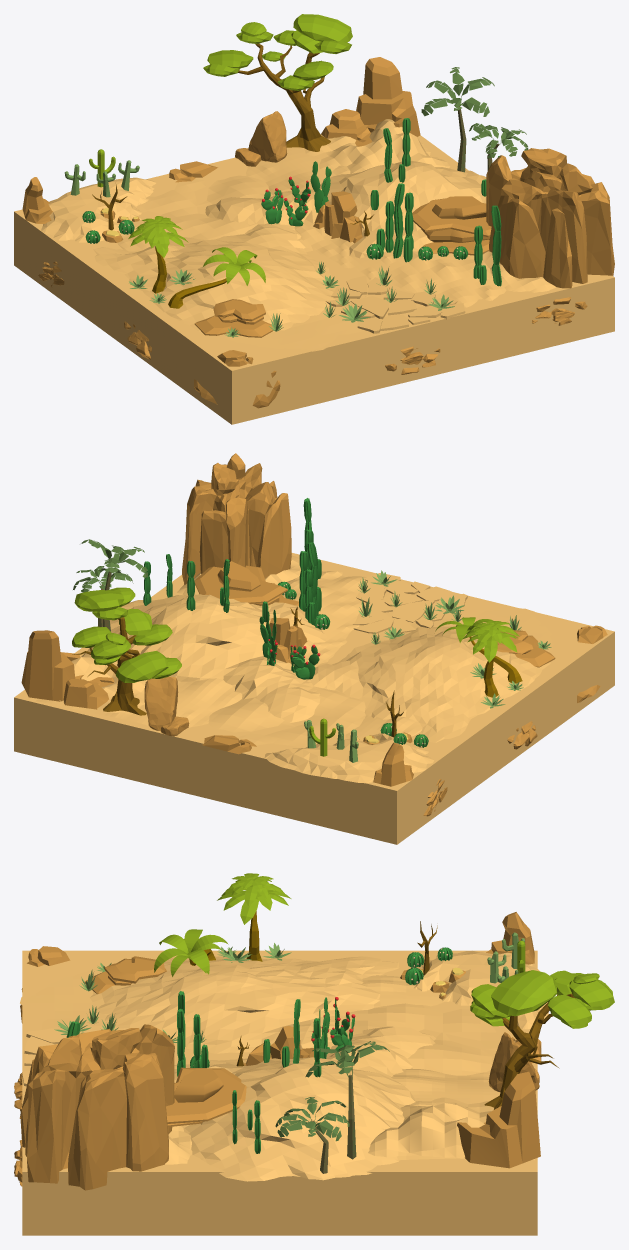
Rendered from Desert.fbx.
3 views of the same model, one above another, from view 1: azimuth 30°, elevation 25°; view 2: azimuth 150°, elevation 25°; view 3: azimuth 270°, elevation 25° (orthographic). The views are drawn at different scales.
Parts seen in each view (by area): view 1: Cube, Rock_Chunks_Large_Tall_01 1, Terrain_Mountain_Sand_01 (1), Terrain_Plane_Rock_Uneven_Large_03, Terrain_Mountain_Sand_01, Terrain_Plane_Dirt_Uneven_01, Terrain_Rock_Mound_01, Terrain_Mound_Uneven_Dirt_02 (1), Rock_Large_15 (1), Terrain_Plane_Dirt_Uneven_01 (1), Vegetation_Tree_Trunk_05, Vegetation_Tree_Palm_04 (+23 smaller); view 2: Cube, Terrain_Mountain_Sand_01 (1), Terrain_Mountain_Sand_01, Rock_Chunks_Large_Tall_01 1, Terrain_Plane_Rock_Uneven_Large_03, Terrain_Plane_Dirt_Uneven_01, Terrain_Rock_Mound_01, Rock_Large_15 (1), Terrain_Plane_Dirt_Uneven_01 (1), Rock_Medium_Dirt_03 (1), Rock_Large_07, Vegetation_Tree_Trunk_05 (+18 smaller); view 3: Cube, Rock_Chunks_Large_Tall_01 1, Terrain_Mountain_Sand_01, Terrain_Mountain_Sand_01 (1), Terrain_Plane_Dirt_Uneven_01, Rock_Large_15 (1), Terrain_Plane_Rock_Uneven_Large_03, Terrain_Mound_Uneven_Dirt_02 (1), Terrain_Rock_Mound_01, Terrain_Plane_Dirt_Uneven_01 (1), Rock_Medium_Dirt_03 (1), Vegetation_Modular_Tree_Foliage_Clump_Large_03 (3) (+18 smaller).
Part boxes in pixels (left/top/right/bottom): Cube: left=14, top=135, right=614, bottom=424; Rock_Chunks_Large_Tall_01 1: left=486, top=148, right=614, bottom=288; Terrain_Mountain_Sand_01 (1): left=93, top=223, right=336, bottom=331; Terrain_Plane_Rock_Uneven_Large_03: left=117, top=147, right=506, bottom=307; Terrain_Mountain_Sand_01: left=205, top=161, right=486, bottom=258; Terrain_Plane_Dirt_Uneven_01: left=136, top=175, right=312, bottom=251; Terrain_Rock_Mound_01: left=41, top=177, right=156, bottom=242; Terrain_Mound_Uneven_Dirt_02 (1): left=304, top=119, right=449, bottom=173; Rock_Large_15 (1): left=356, top=57, right=420, bottom=136; Terrain_Plane_Dirt_Uneven_01 (1): left=221, top=278, right=378, bottom=351; Vegetation_Tree_Trunk_05: left=238, top=43, right=330, bottom=151; Vegetation_Tree_Palm_04: left=421, top=67, right=494, bottom=172; Cube: left=14, top=553, right=614, bottom=844; Terrain_Mountain_Sand_01 (1): left=305, top=626, right=550, bottom=742; Terrain_Mountain_Sand_01: left=97, top=594, right=326, bottom=722; Rock_Chunks_Large_Tall_01 1: left=182, top=453, right=291, bottom=584; Terrain_Plane_Rock_Uneven_Large_03: left=35, top=571, right=422, bottom=741; Terrain_Plane_Dirt_Uneven_01: left=208, top=662, right=365, bottom=748; Terrain_Rock_Mound_01: left=264, top=733, right=434, bottom=783; Rock_Large_15 (1): left=21, top=630, right=83, bottom=701; Terrain_Plane_Dirt_Uneven_01 (1): left=378, top=602, right=553, bottom=652; Rock_Medium_Dirt_03 (1): left=194, top=565, right=287, bottom=603; Rock_Large_07: left=144, top=676, right=178, bottom=731; Vegetation_Tree_Trunk_05: left=72, top=617, right=146, bottom=715; Cube: left=22, top=950, right=537, bottom=1235; Rock_Chunks_Large_Tall_01 1: left=20, top=1024, right=174, bottom=1190; Terrain_Mountain_Sand_01: left=174, top=1026, right=435, bottom=1181; Terrain_Mountain_Sand_01 (1): left=90, top=956, right=399, bottom=1053; Terrain_Plane_Dirt_Uneven_01: left=344, top=1003, right=515, bottom=1075; Rock_Large_15 (1): left=457, top=1071, right=540, bottom=1168; Terrain_Plane_Rock_Uneven_Large_03: left=174, top=975, right=534, bottom=1160; Terrain_Mound_Uneven_Dirt_02 (1): left=368, top=1097, right=493, bottom=1157; Terrain_Rock_Mound_01: left=414, top=950, right=548, bottom=1029; Terrain_Plane_Dirt_Uneven_01 (1): left=20, top=967, right=186, bottom=1048; Rock_Medium_Dirt_03 (1): left=166, top=1067, right=246, bottom=1123; Vegetation_Modular_Tree_Foliage_Clump_Large_03 (3): left=491, top=970, right=556, bottom=1016.
Bounding box in the file's own units: 11.72 × 4.66 × 12.19.
